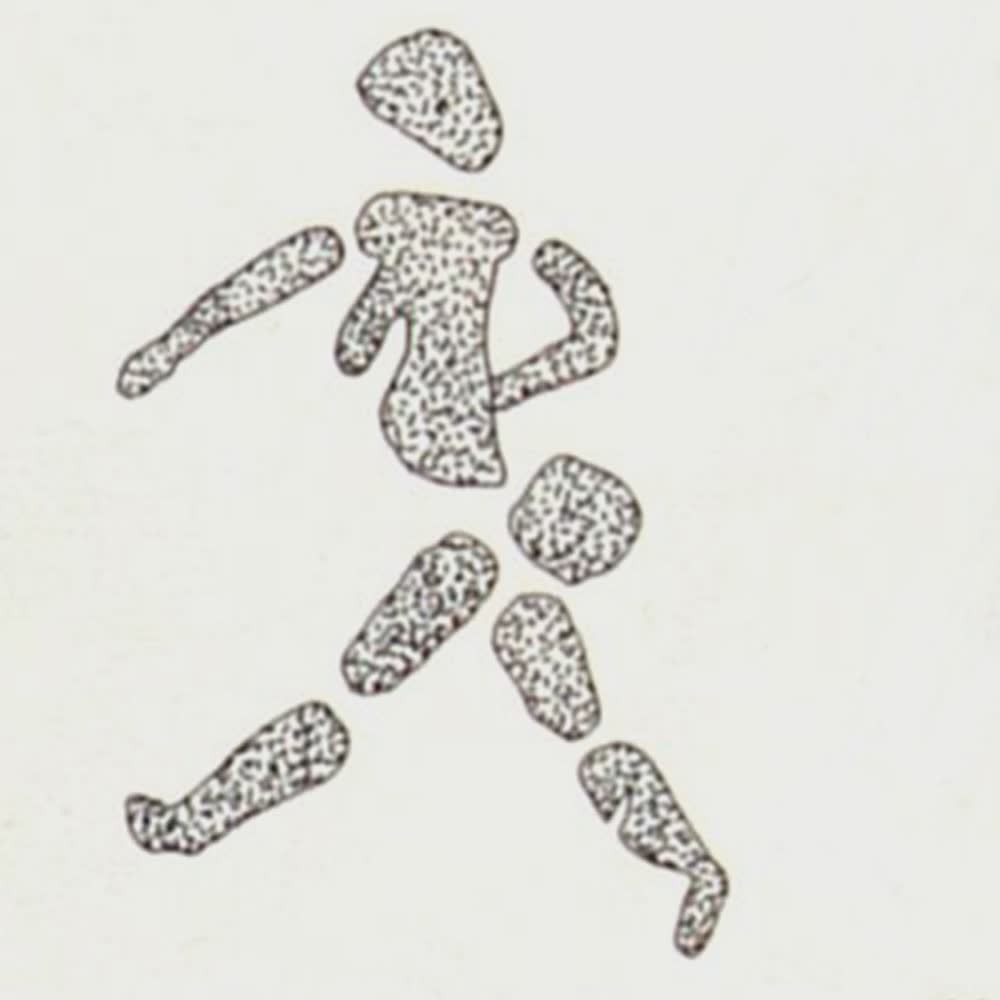woman: (108, 30, 733, 959)
